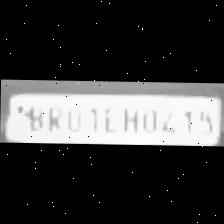0: (62, 102, 84, 131), (138, 102, 156, 132)
1: (178, 105, 196, 134), (82, 102, 98, 132)
4: (157, 102, 177, 134)
B: (20, 102, 44, 132)
H: (122, 102, 144, 133)
R: (43, 102, 63, 132)
